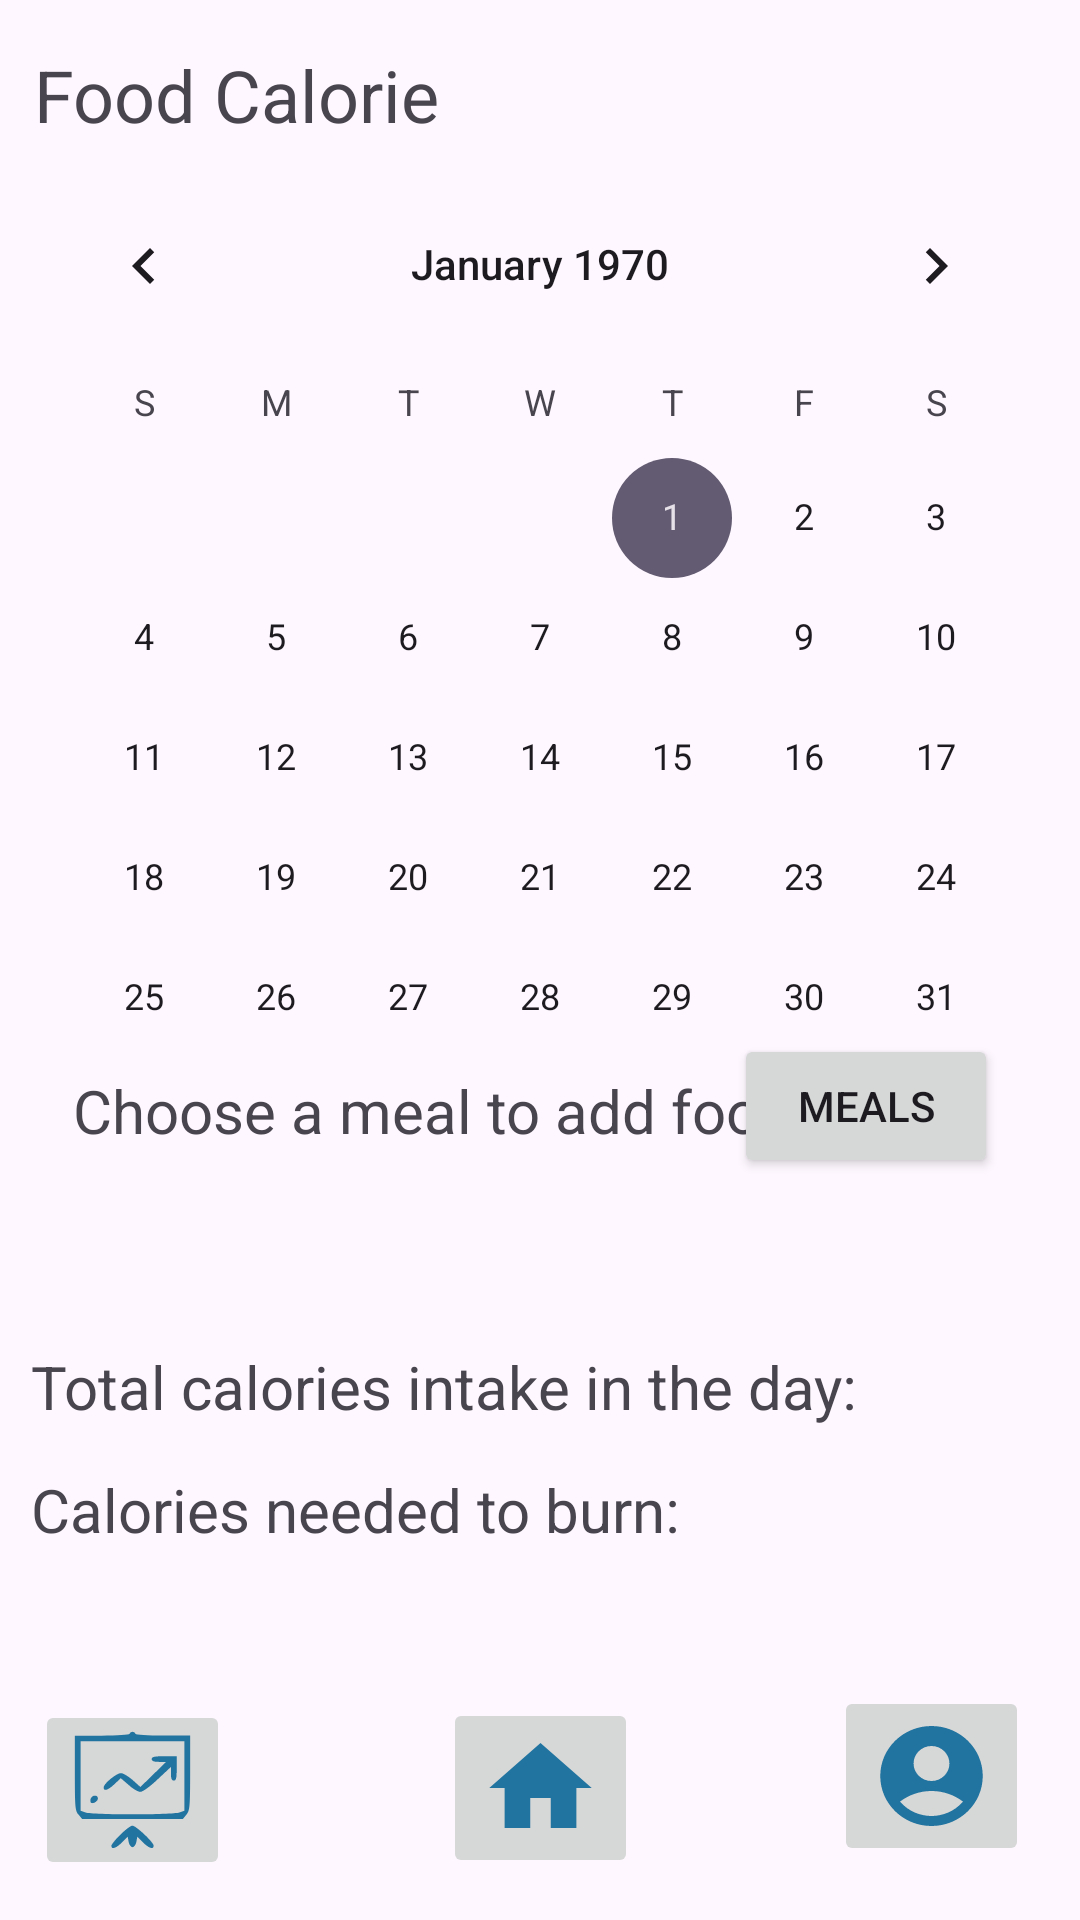

Icon click points for this 1080×1920 phone screenshot, format [x,y]:
account circle: [931,1776]
home: [540,1788]
statistics: [132,1790]
